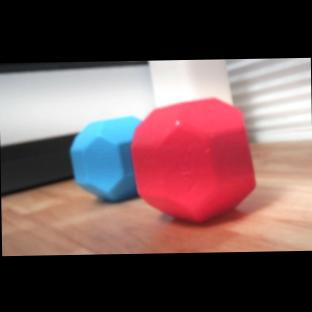V5_BLUE: (70, 115, 140, 200)
V5_RED: (131, 97, 255, 220)
